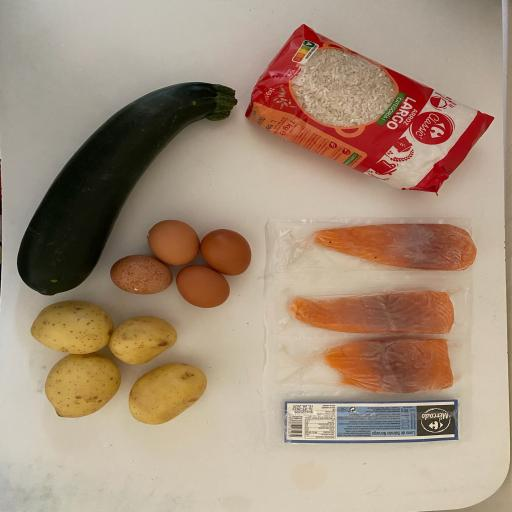courgette: (13, 77, 245, 298)
egg: (104, 250, 180, 299), (141, 216, 202, 271), (171, 259, 232, 314), (196, 224, 251, 277)
potato: (40, 352, 126, 422), (124, 360, 210, 427), (26, 298, 116, 357), (106, 314, 182, 366)
rice: (238, 22, 496, 199)
salmon: (308, 221, 478, 277), (283, 287, 459, 339), (314, 335, 460, 394)
